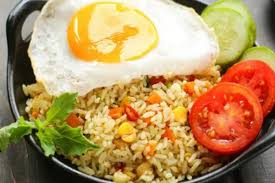Nasi goreng: (67, 80, 237, 183)
Telur ceplok: (26, 0, 219, 97)
